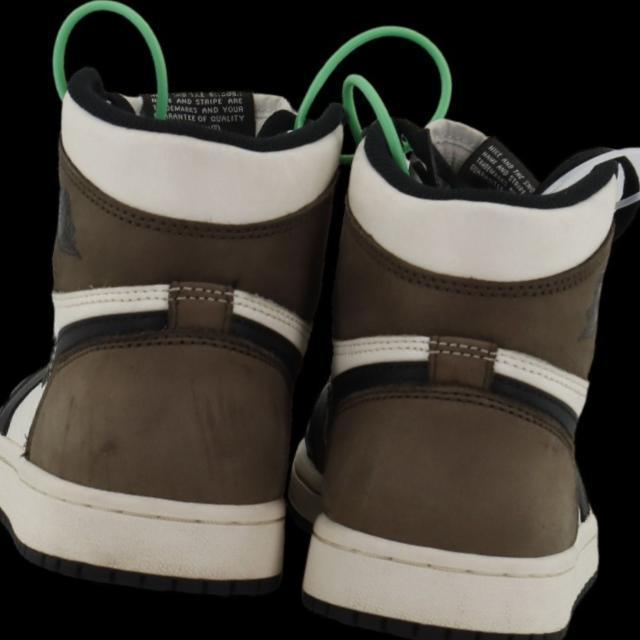nike original jordan 1: (274, 91, 640, 640), (0, 59, 356, 612)
